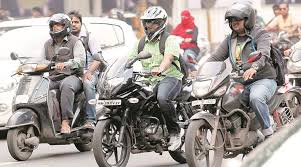helmet: (134, 3, 172, 44), (219, 1, 261, 36)
